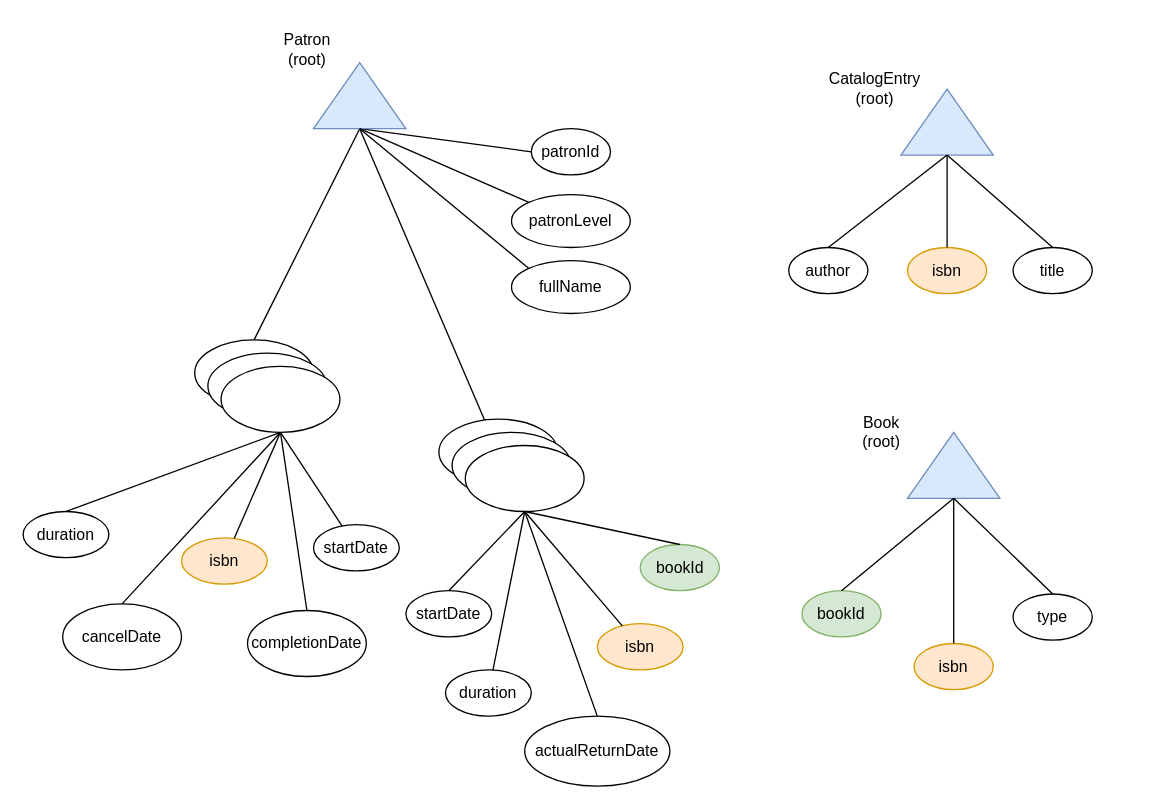
Image size: 1155x809. Some labels were removed from this diagram. The shapes that lost their labels are listed below. From the top down, each one's centre as x and y in pixels, then its label:
At (280,398): "Hold".
At (524,478): "Checkout".
